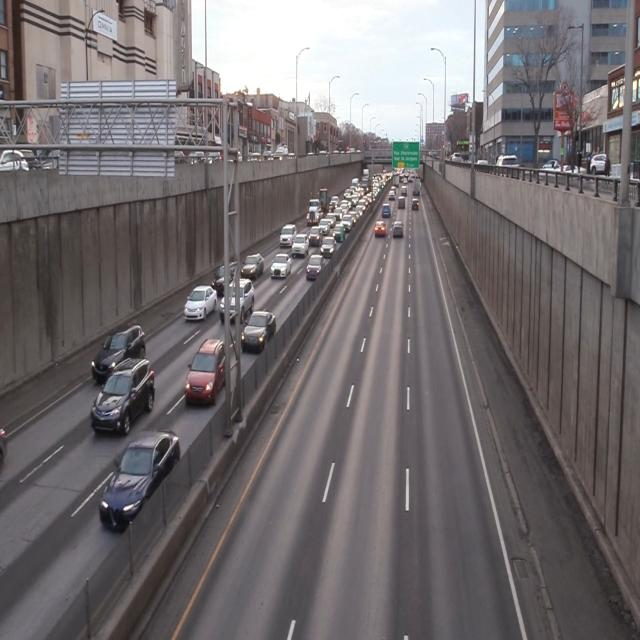Car: (100, 428, 180, 534), (90, 359, 155, 438), (91, 325, 146, 382), (184, 342, 230, 404), (240, 308, 276, 353), (221, 277, 251, 327), (184, 282, 218, 326), (241, 253, 263, 277), (271, 253, 289, 281), (306, 255, 325, 281), (292, 234, 308, 259), (279, 223, 295, 248), (374, 220, 387, 239), (393, 219, 404, 239), (381, 202, 392, 218), (397, 196, 405, 210), (411, 198, 418, 210)
